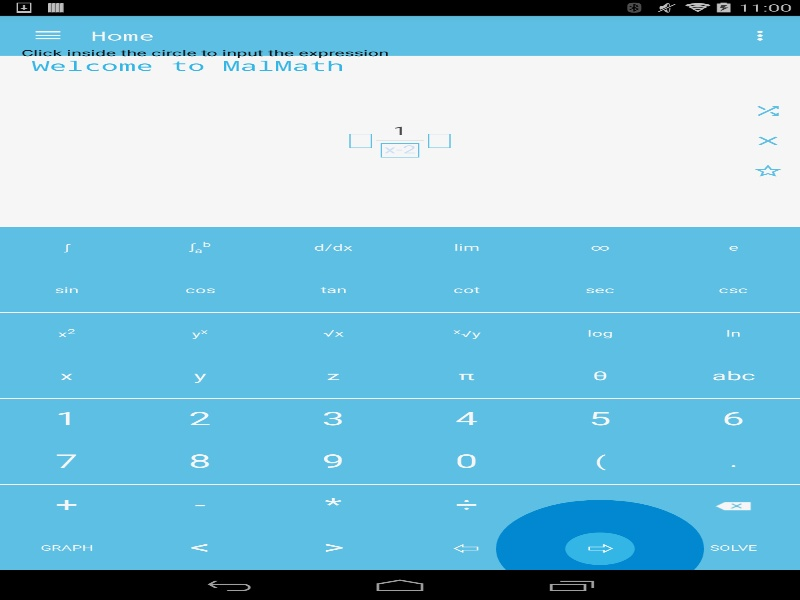Button: (266, 226, 400, 269), (666, 226, 800, 269), (266, 269, 400, 312), (666, 269, 800, 312), (266, 312, 400, 355), (666, 312, 800, 355), (266, 355, 400, 398), (666, 355, 800, 398), (266, 398, 400, 441), (666, 398, 800, 441), (266, 441, 400, 484), (666, 441, 800, 484), (266, 484, 400, 527), (266, 527, 400, 570), (666, 527, 800, 570), (0, 226, 133, 269), (133, 226, 266, 269), (400, 226, 533, 269), (533, 226, 666, 269), (0, 269, 133, 312), (133, 269, 266, 312), (400, 269, 533, 312), (533, 269, 666, 312), (0, 312, 133, 355), (133, 312, 266, 355), (400, 312, 533, 355), (533, 312, 666, 355), (0, 355, 133, 398), (133, 355, 266, 398), (400, 355, 533, 398), (533, 355, 666, 398), (0, 398, 133, 441), (133, 398, 266, 441), (400, 398, 533, 441), (533, 398, 666, 441), (0, 441, 133, 484), (133, 441, 266, 484), (400, 441, 533, 484), (533, 441, 666, 484), (0, 484, 133, 527), (133, 484, 266, 527), (400, 484, 533, 527), (533, 484, 666, 527), (0, 527, 133, 570), (133, 527, 266, 570), (400, 527, 533, 570), (533, 527, 666, 570), (10, 18, 85, 53), (736, 95, 800, 125), (736, 125, 800, 155), (736, 155, 800, 185)
Input: (374, 122, 425, 140), (378, 141, 422, 159), (346, 131, 374, 150), (425, 131, 453, 150)
